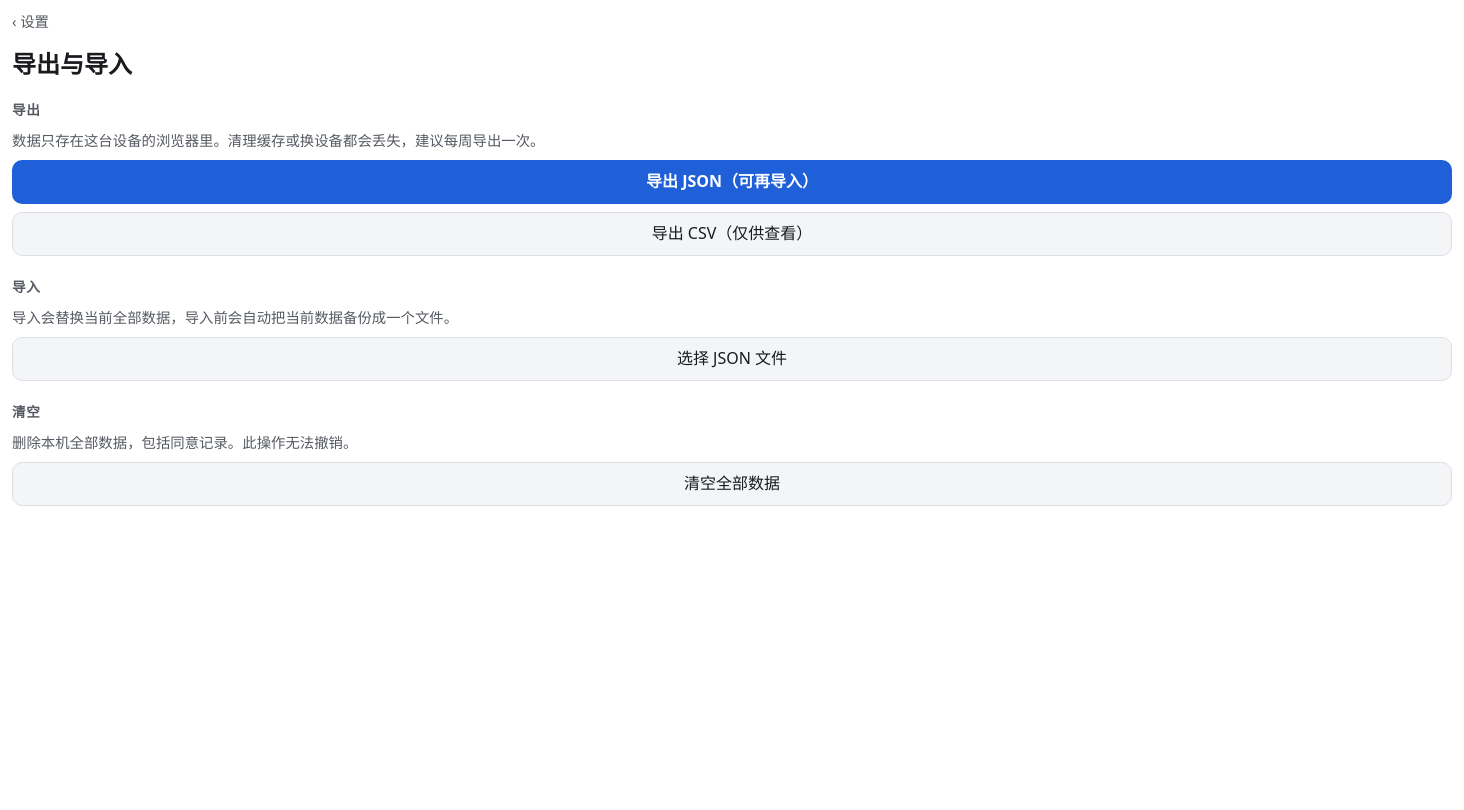
Test: 清空 › 取消后回到原状
Click the button "清空全部数据". click: (732, 484)
box: [12, 462, 1452, 506]
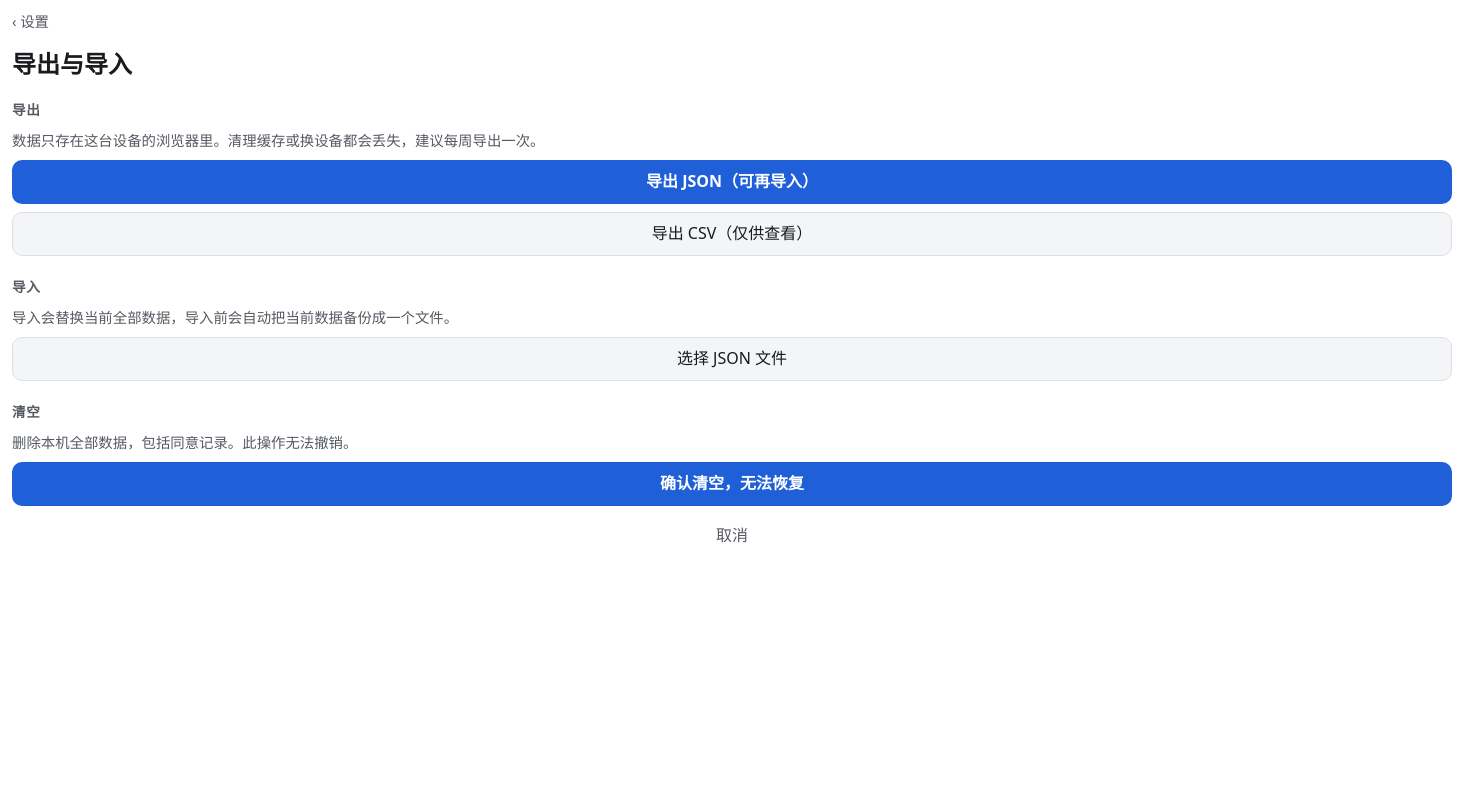
Click the button "取消". click: (732, 536)
box: [12, 514, 1452, 558]
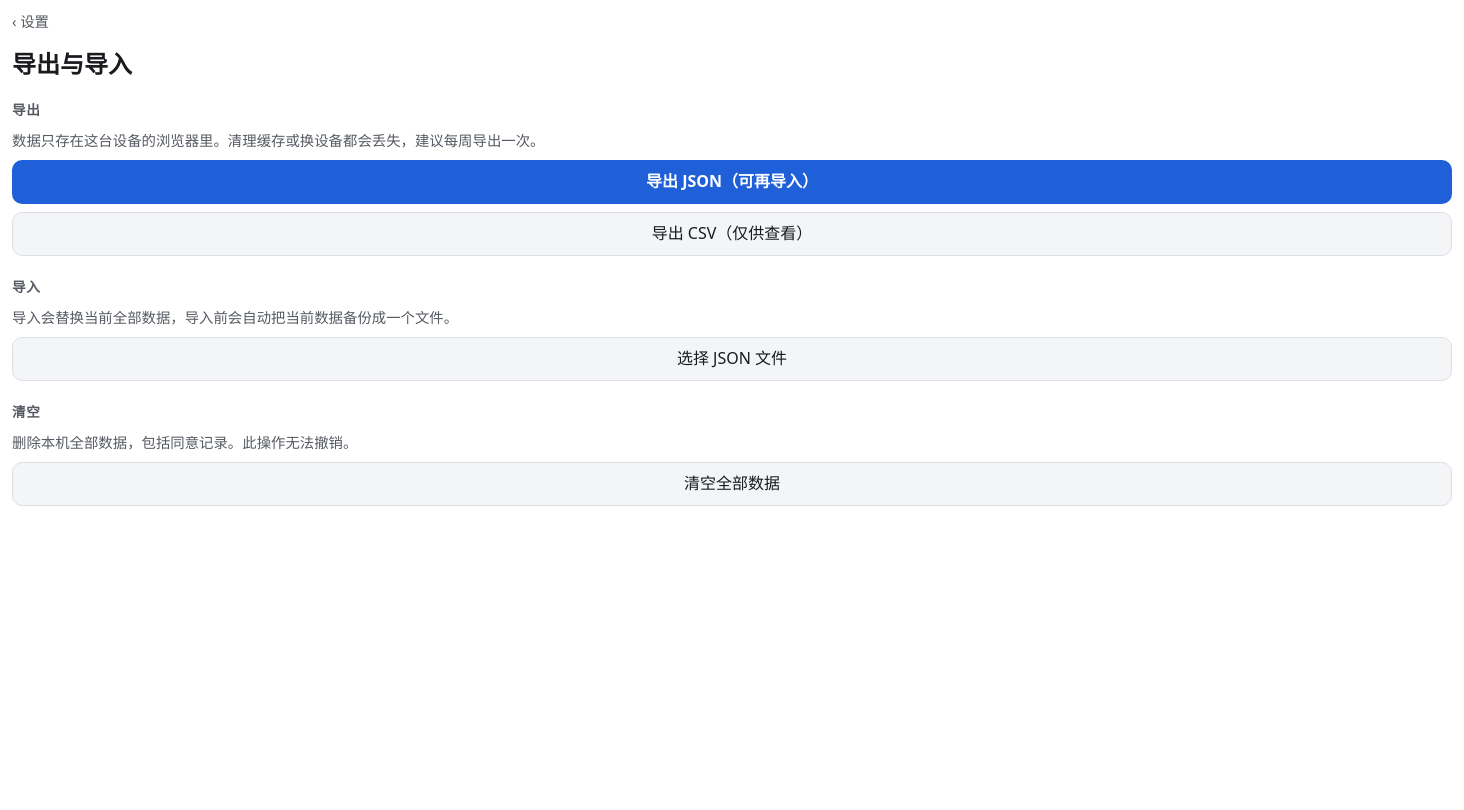
Expected: the button "清空全部数据" is shown, [12, 462, 1452, 506]
